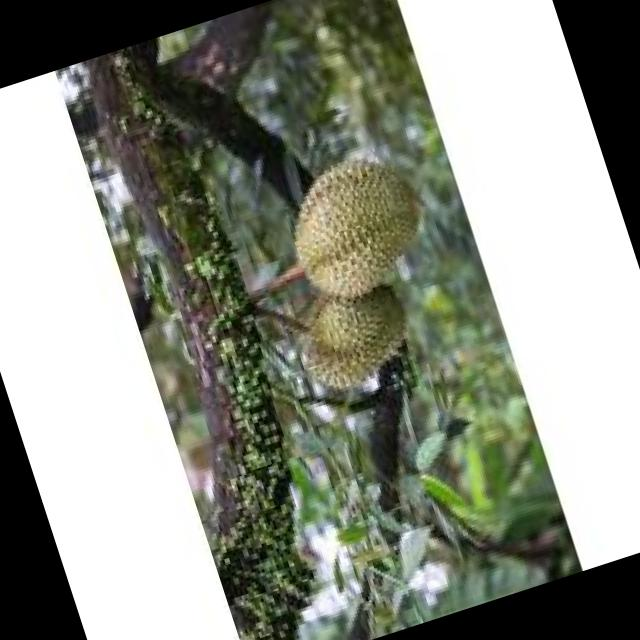fruit: (259, 133, 452, 322), (277, 262, 434, 410)
